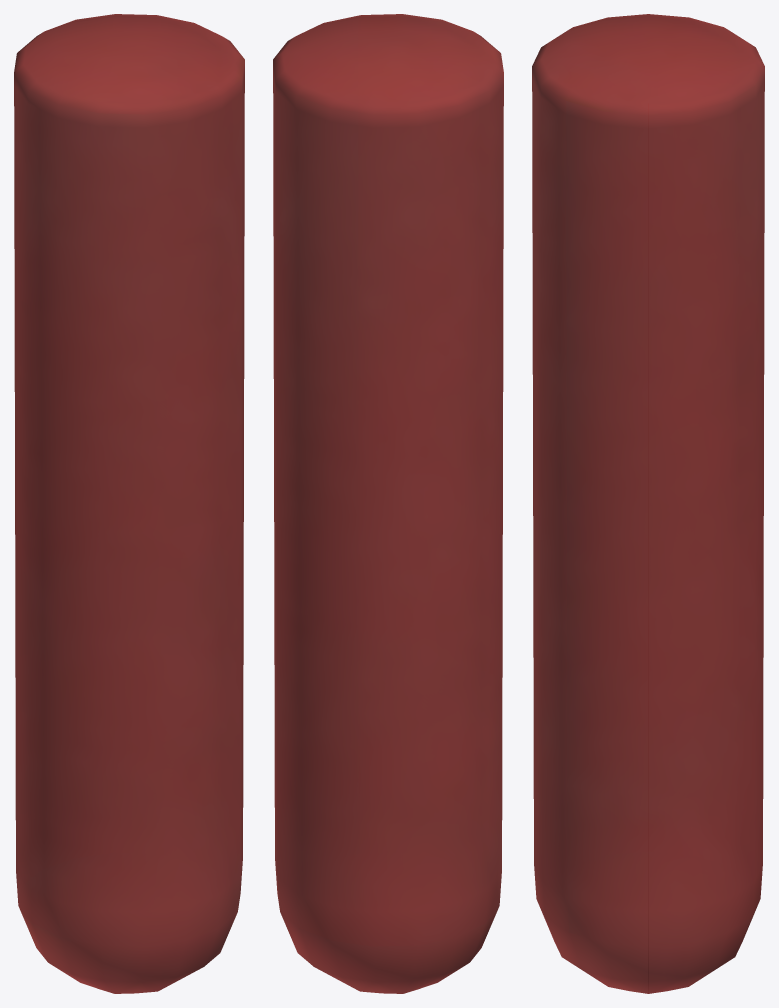
The model's file is test_tube_content_c.glb.
3 renders of one model, left to right at view 1: azimuth 30°, elevation 25°; view 2: azimuth 150°, elevation 25°; view 3: azimuth 270°, elevation 25°, orthographic.
Parts seen in each view (by area): view 1: chemistry_set_test_tube_content_c.001; view 2: chemistry_set_test_tube_content_c.001; view 3: chemistry_set_test_tube_content_c.001.
Part boxes in pixels (x1=…): chemistry_set_test_tube_content_c.001: x1=14, y1=14, x2=244, y2=993; chemistry_set_test_tube_content_c.001: x1=273, y1=14, x2=503, y2=993; chemistry_set_test_tube_content_c.001: x1=532, y1=14, x2=764, y2=993.
Size of the model in its own units: 0.0127 by 0.0551 by 0.0127.
1 material, 1 textured.
